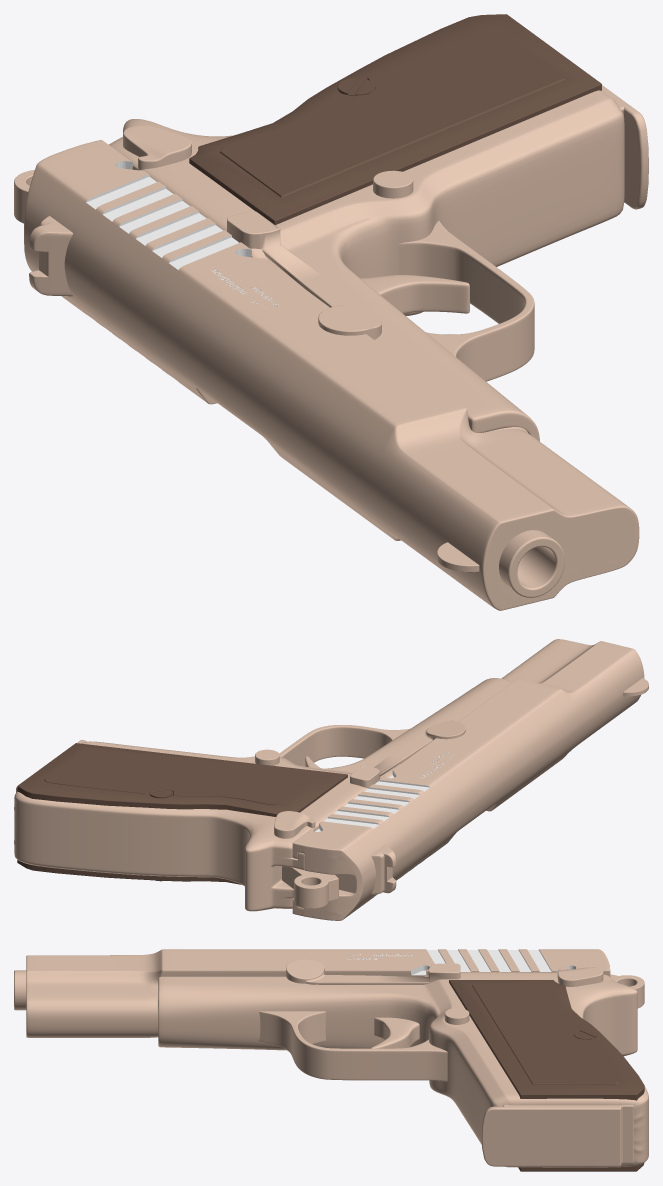
File: glock.fbx
The picture shows the model from 3 angles, top to bottom: view 1: azimuth 30°, elevation 25°; view 2: azimuth 150°, elevation 25°; view 3: azimuth 270°, elevation 25°; orthographic projection. The views are drawn at different scales.
Visible parts, largest first — view 1: Head.004, Body.003, Handle Brown.001, Trigger.003, Trigger Safety.001, Bullet Hole.003, Aim.001, Magazine.001, Trigger Safety.006, Magazine Drawer.003; view 2: Head.004, Body.003, Handle Brown.001, Trigger.003, Trigger Safety.001, Back Trigger.003, Aim.001, Trigger Safety.006; view 3: Body.003, Head.004, Handle Brown.001, Magazine.001, Trigger.003, Trigger Safety.001, Trigger Safety.006, Bullet Hole.003, Back Trigger.003, Magazine Drawer.003.
Part boxes in pixels (bbox=[...]): Head.004: bbox=[24, 140, 639, 610]; Body.003: bbox=[109, 90, 624, 441]; Handle Brown.001: bbox=[189, 14, 601, 225]; Trigger.003: bbox=[360, 221, 534, 381]; Trigger Safety.001: bbox=[227, 211, 381, 339]; Bullet Hole.003: bbox=[499, 530, 564, 597]; Aim.001: bbox=[29, 216, 72, 296]; Magazine.001: bbox=[602, 85, 648, 209]; Trigger Safety.006: bbox=[123, 125, 191, 169]; Magazine Drawer.003: bbox=[373, 170, 413, 198]; Head.004: bbox=[292, 639, 644, 920]; Body.003: bbox=[14, 678, 513, 911]; Handle Brown.001: bbox=[17, 743, 347, 884]; Trigger.003: bbox=[279, 725, 409, 768]; Trigger Safety.001: bbox=[350, 720, 465, 788]; Back Trigger.003: bbox=[282, 866, 338, 908]; Aim.001: bbox=[371, 845, 396, 894]; Trigger Safety.006: bbox=[274, 811, 315, 838]; Body.003: bbox=[158, 972, 648, 1167]; Head.004: bbox=[26, 949, 610, 1037]; Handle Brown.001: bbox=[449, 980, 644, 1171]; Magazine.001: bbox=[481, 1105, 633, 1166]; Trigger.003: bbox=[259, 1011, 447, 1081]; Trigger Safety.001: bbox=[286, 959, 460, 984]; Trigger Safety.006: bbox=[557, 966, 603, 986]; Bullet Hole.003: bbox=[14, 970, 26, 1010]; Back Trigger.003: bbox=[610, 974, 644, 1008]; Magazine Drawer.003: bbox=[444, 1008, 469, 1024].
Bounding box in the file's own units: 12.41 × 2.92 × 19.92.
